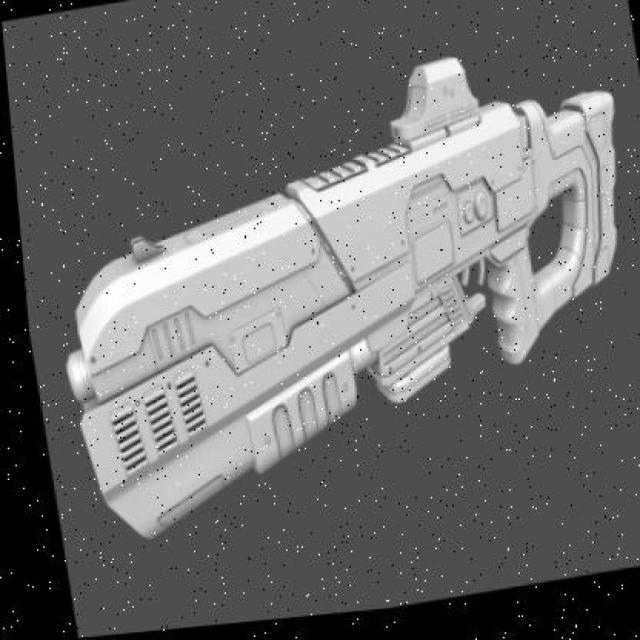weapon: (64, 56, 621, 545)
